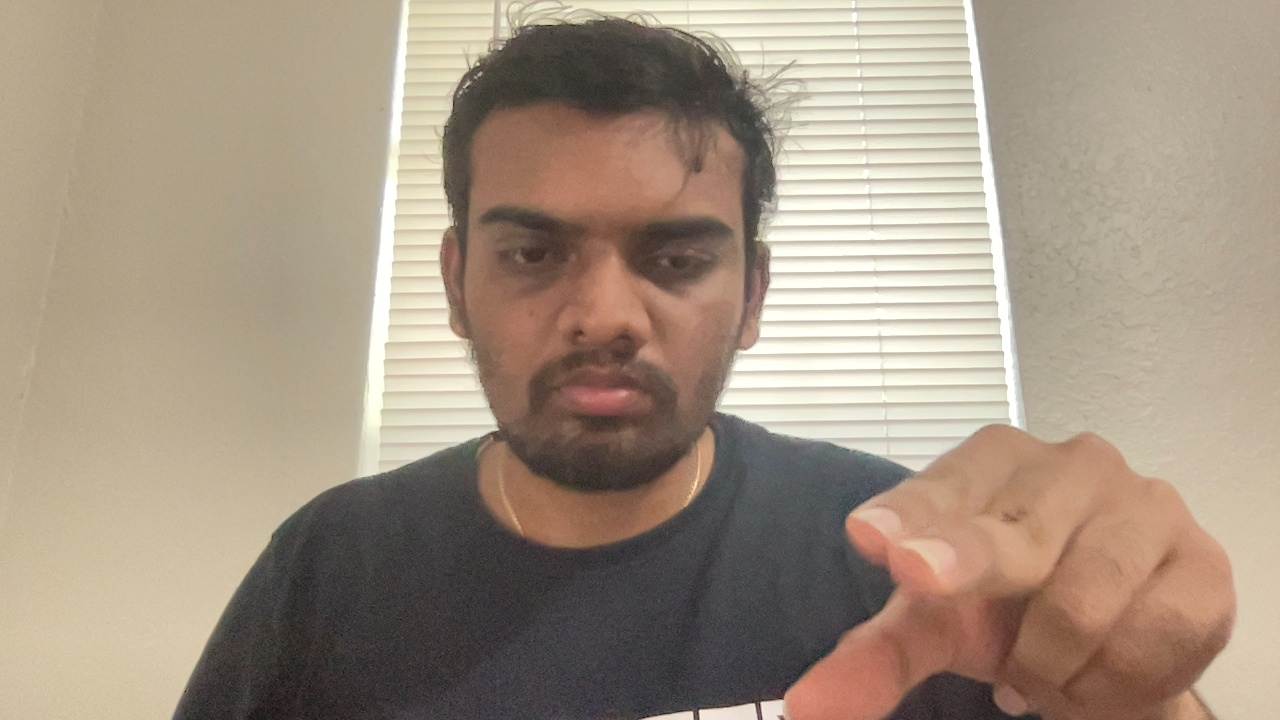no: (765, 393, 1243, 716)
